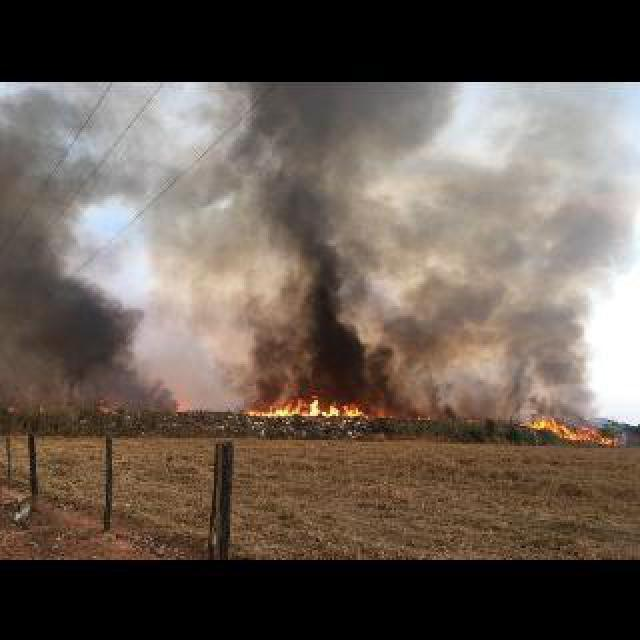Fire: (540, 412, 630, 454), (254, 401, 368, 424)
Smoke: (3, 86, 605, 397)
